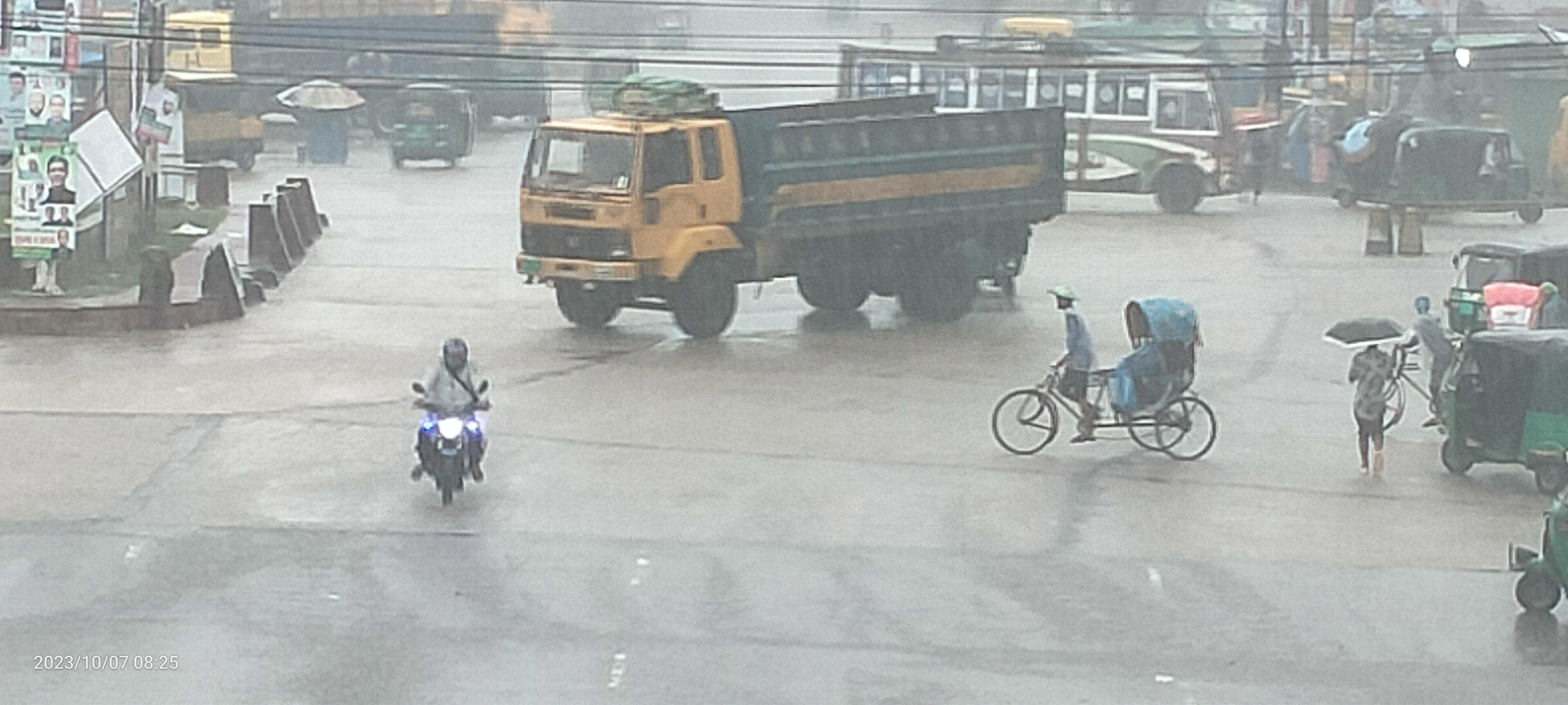Bike: (368, 277, 516, 531)
Bus: (811, 17, 1264, 252)
Car: (963, 263, 1253, 511), (1353, 248, 1563, 434)
Truck: (475, 69, 1104, 335), (119, 0, 508, 127)
